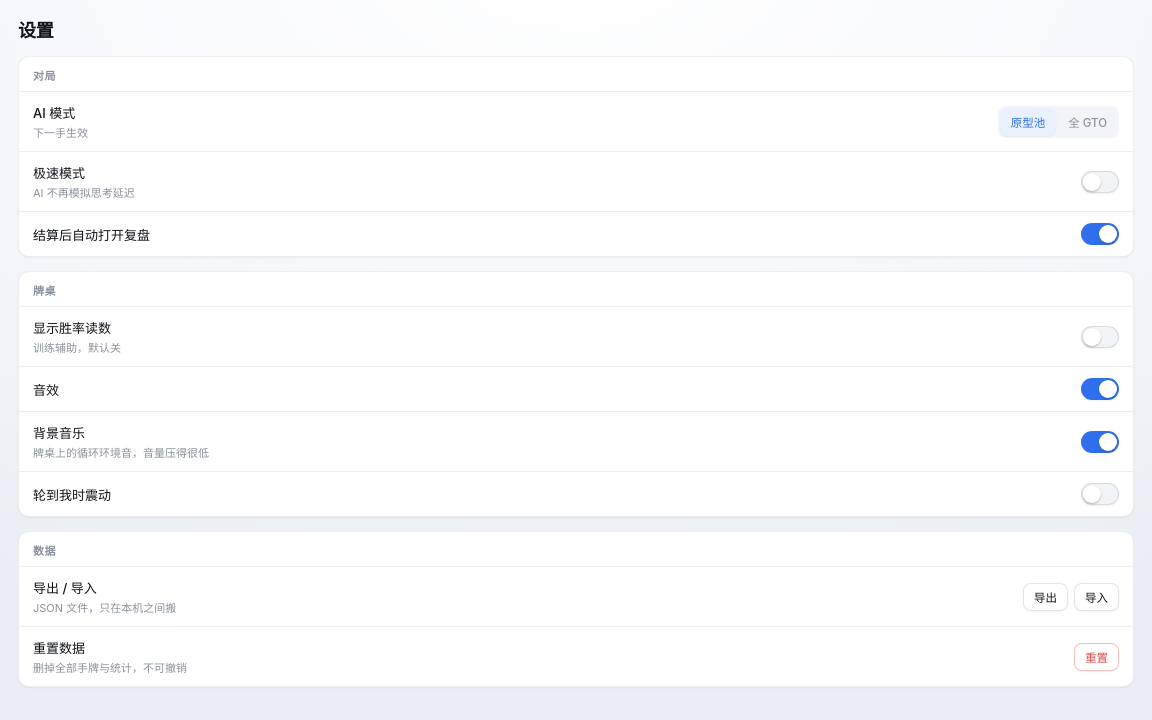
Test: 重置数据的二次确认 › 点「重置」不清空任何东西，只进入确认态
The width and height of the screenshot is (1152, 720).
What coordinates should you click on to do the following:
click the button "重置"
I would click on:
 (1096, 656)
Its box is [1074,642,1119,670].
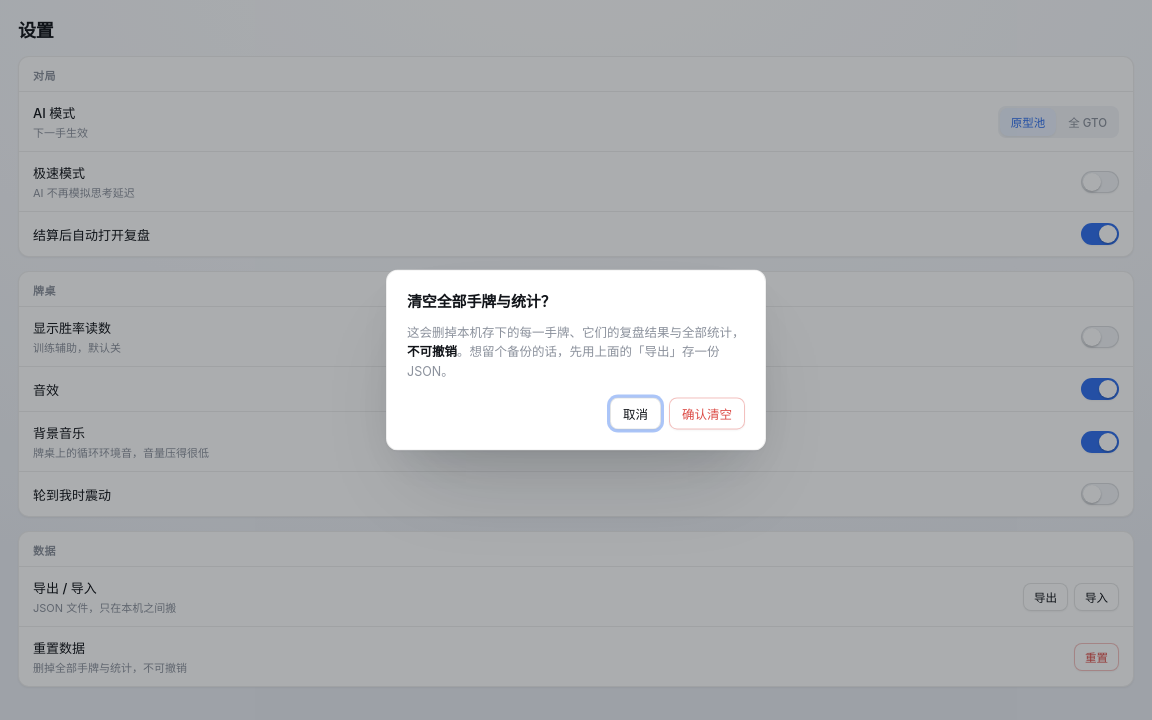
Check: the button "确认清空" is shown, box [669,398,745,430]
